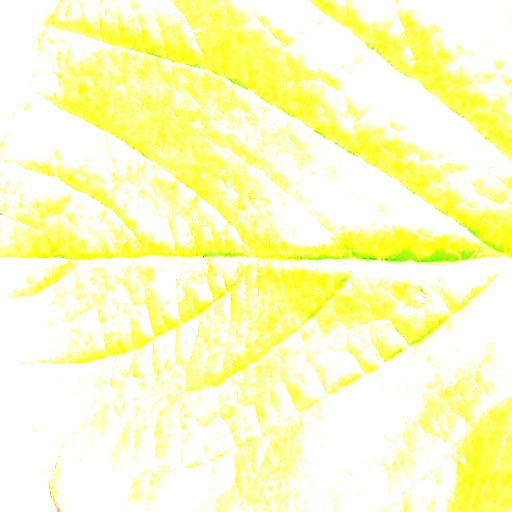Angular Leafspot: (0, 0, 511, 511)
